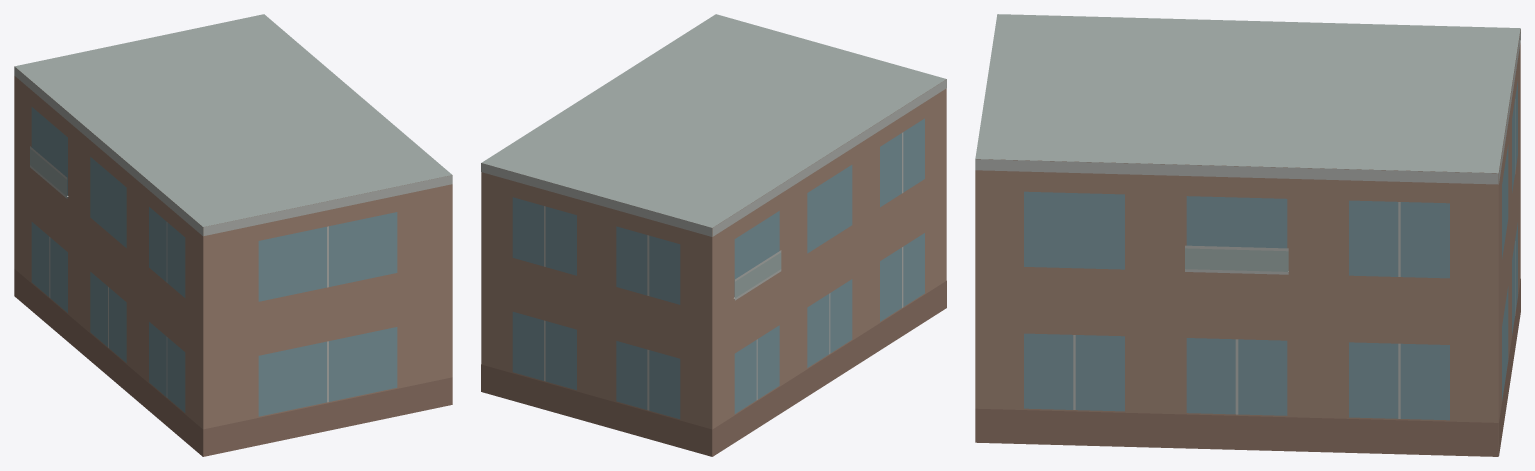
File: survey-upis-32800285.glb
3 views of the same model, side by side, from view 1: azimuth 30°, elevation 25°; view 2: azimuth 150°, elevation 25°; view 3: azimuth 270°, elevation 25° (orthographic). The views are drawn at different scales.
Parts seen in each view (by area): view 1: survey-upis-32800285.tmp; view 2: survey-upis-32800285.tmp; view 3: survey-upis-32800285.tmp.
Part boxes in pixels (x1,y1,x2,y2): survey-upis-32800285.tmp: [14, 14, 452, 456]; survey-upis-32800285.tmp: [481, 14, 946, 456]; survey-upis-32800285.tmp: [975, 14, 1520, 456].
Size of the model in its own units: 7.35 by 6.1 by 10.64.
